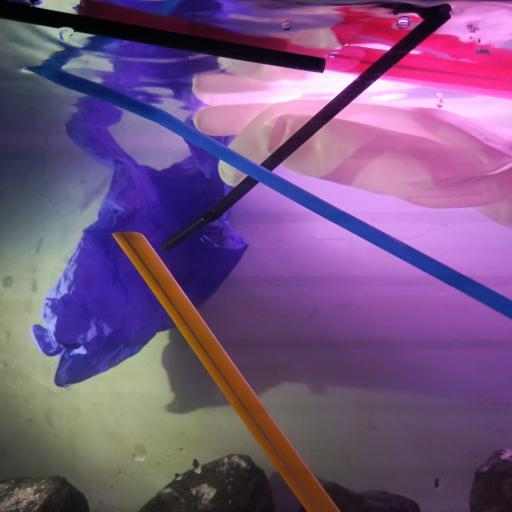glove: (35, 100, 250, 390), (192, 93, 512, 228)
plastic_straw: (27, 64, 512, 322), (159, 2, 452, 256), (111, 229, 338, 512), (2, 2, 326, 74), (78, 1, 334, 71), (326, 45, 512, 98)
